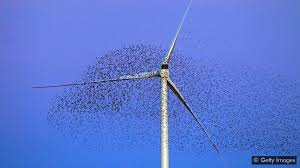faulty: (117, 45, 199, 122)
